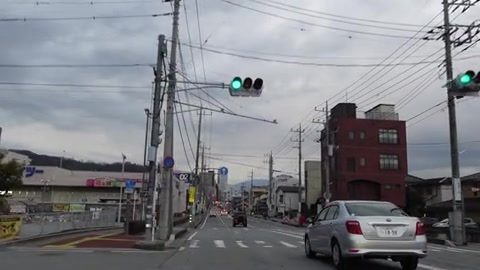traffic_sign: (160, 154, 175, 168), (124, 178, 135, 190), (218, 165, 229, 176)
